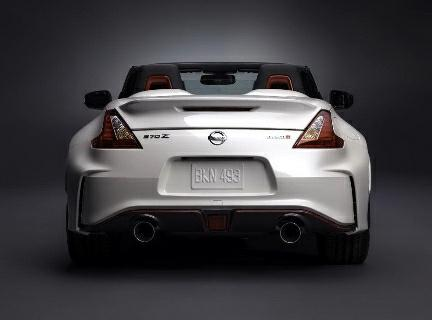日产-GT-R: (60, 56, 382, 271)
